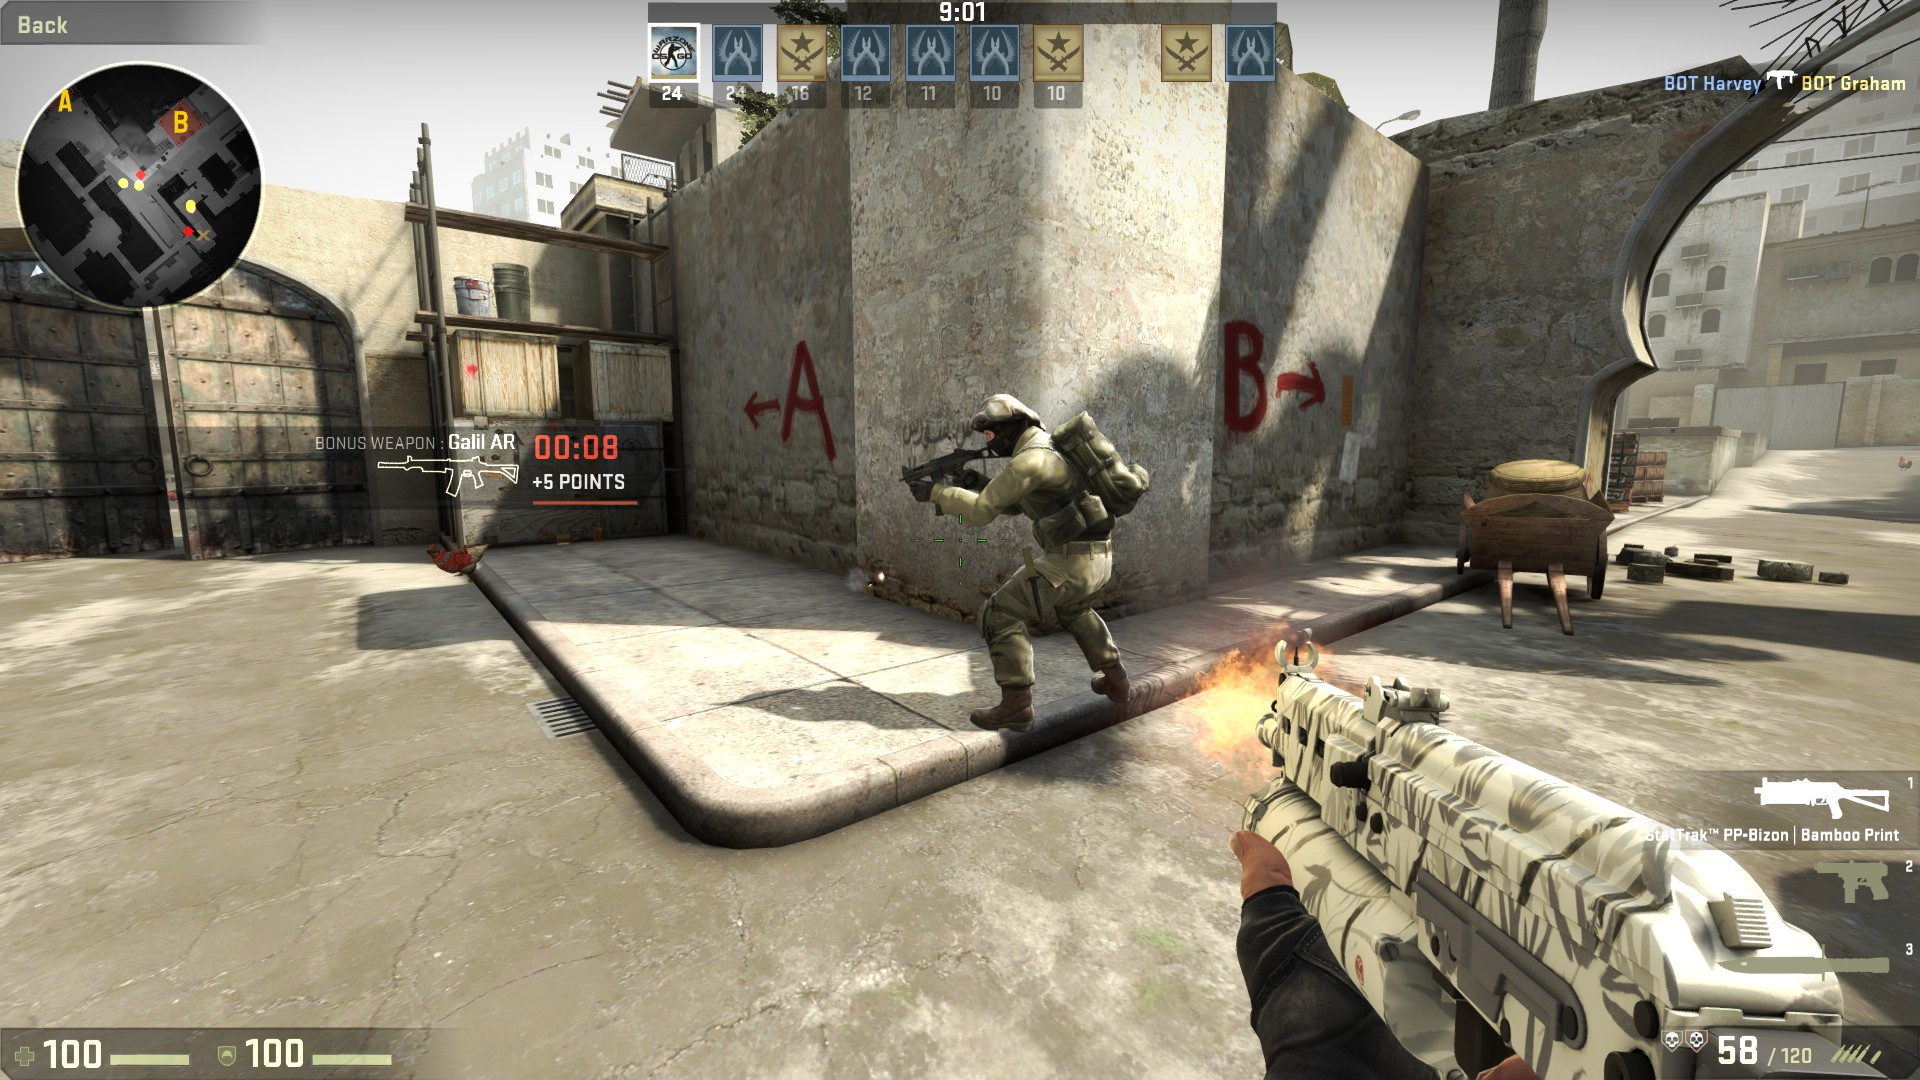c: (942, 385, 1131, 737)
ch: (969, 386, 1050, 469)
